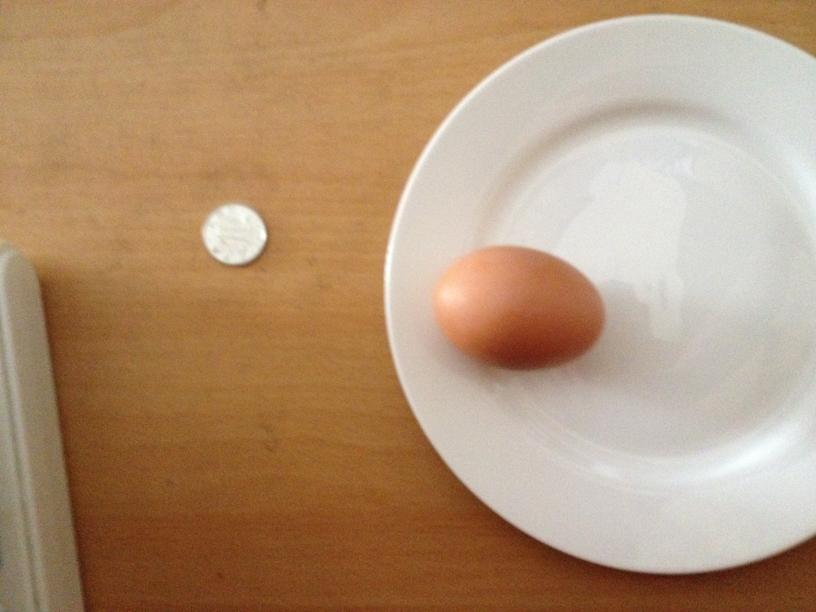coin: (200, 202, 266, 267)
egg: (430, 243, 605, 371)
